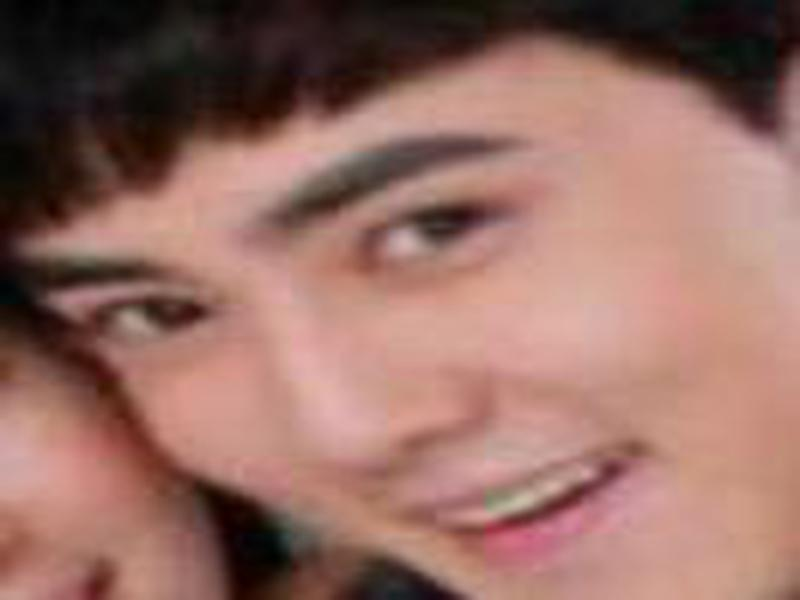without_mask: (19, 74, 800, 595)
